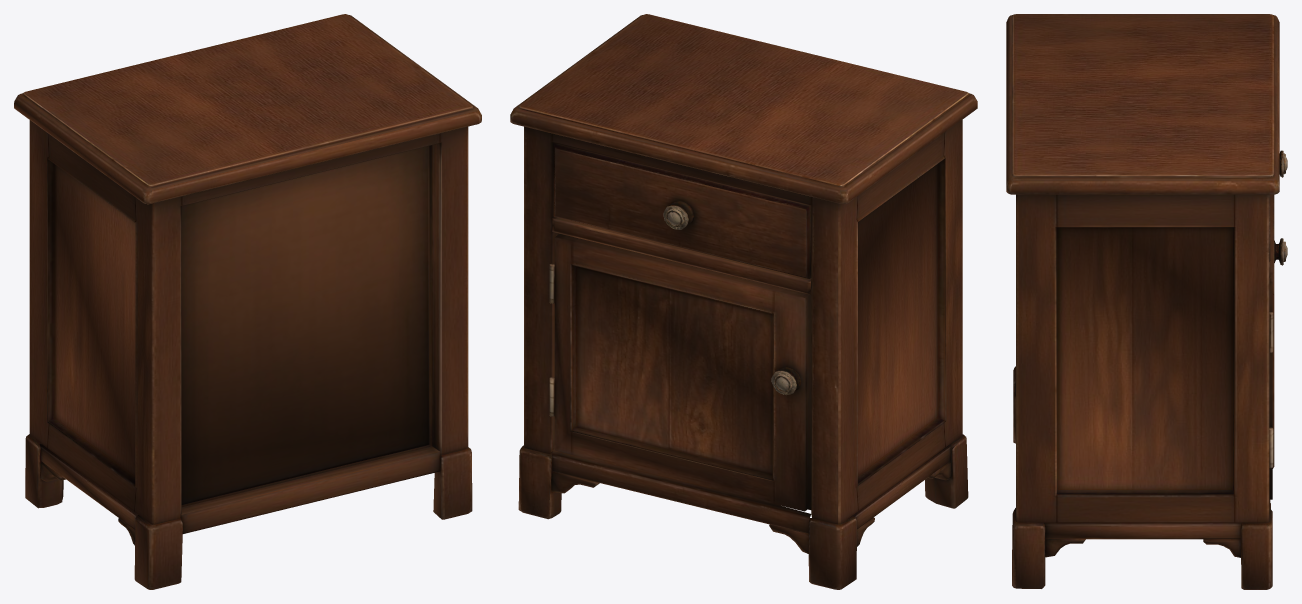
The model's file is furniture-nightstand.glb.
3 renders of one model, left to right at view 1: azimuth 30°, elevation 25°; view 2: azimuth 150°, elevation 25°; view 3: azimuth 270°, elevation 25°, orthographic. The views are drawn at different scales.
Visible parts, largest first — view 1: tripo_node_d89b6185-3250-4c40-b42b-58732be9ad6e; view 2: tripo_node_d89b6185-3250-4c40-b42b-58732be9ad6e; view 3: tripo_node_d89b6185-3250-4c40-b42b-58732be9ad6e.
Part boxes in pixels (left/top/right/bottom): tripo_node_d89b6185-3250-4c40-b42b-58732be9ad6e: left=14, top=14, right=481, bottom=589; tripo_node_d89b6185-3250-4c40-b42b-58732be9ad6e: left=510, top=14, right=977, bottom=589; tripo_node_d89b6185-3250-4c40-b42b-58732be9ad6e: left=1006, top=14, right=1287, bottom=589.
Bounding box in the file's own units: 0.68 × 0.78 × 0.48.
1 material, 1 textured.
